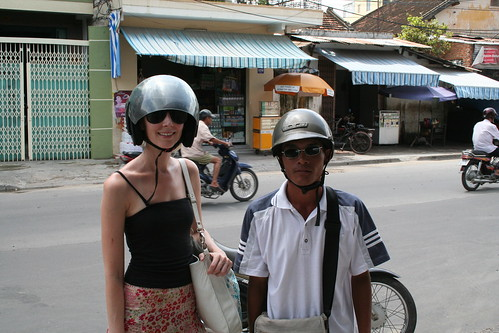helmet: (120, 71, 205, 115), (266, 100, 336, 142), (480, 103, 496, 120)
